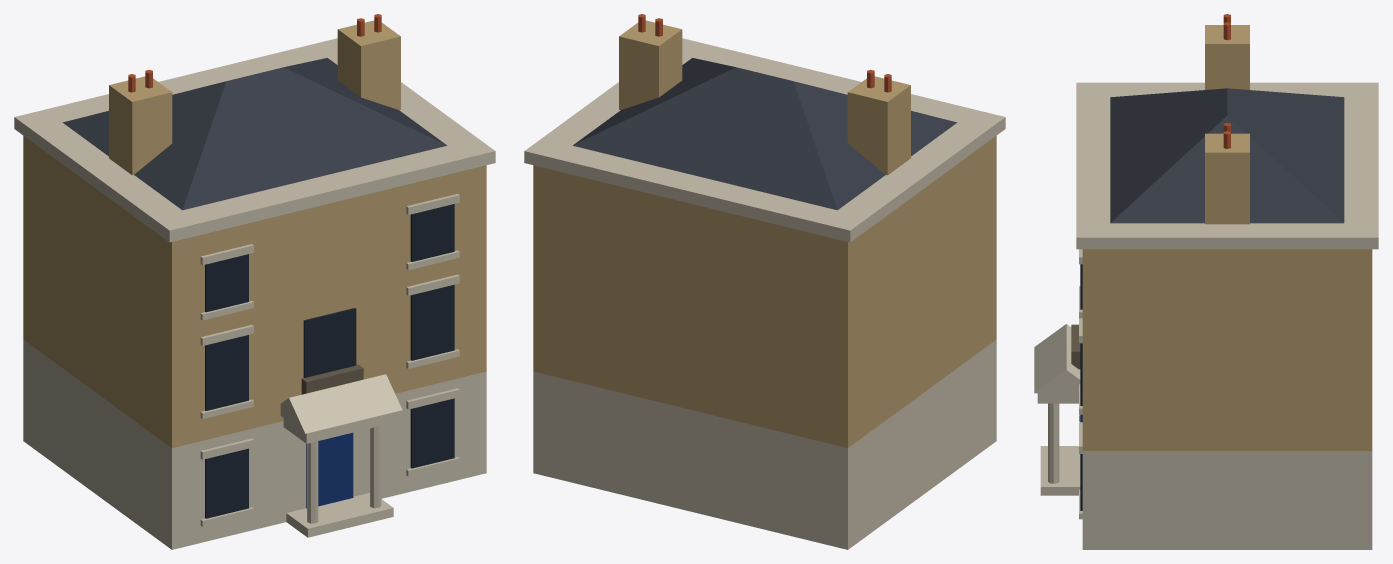
File: building_london_s2_georgian_townhouse.glb
3 renders of one model, left to right at view 1: azimuth 30°, elevation 25°; view 2: azimuth 150°, elevation 25°; view 3: azimuth 270°, elevation 25°, orthographic. The views are drawn at different scales.
Visible parts, largest first — view 1: building_london_s2_georgian_townhouse; view 2: building_london_s2_georgian_townhouse; view 3: building_london_s2_georgian_townhouse.
Part boxes in pixels (left/top/right/bottom): building_london_s2_georgian_townhouse: left=14, top=14, right=495, bottom=549; building_london_s2_georgian_townhouse: left=524, top=14, right=1005, bottom=549; building_london_s2_georgian_townhouse: left=1034, top=14, right=1378, bottom=549.
Size of the model in its own units: 11.4 by 13.75 by 10.7.
Materials: 1 (1 with a texture image).
